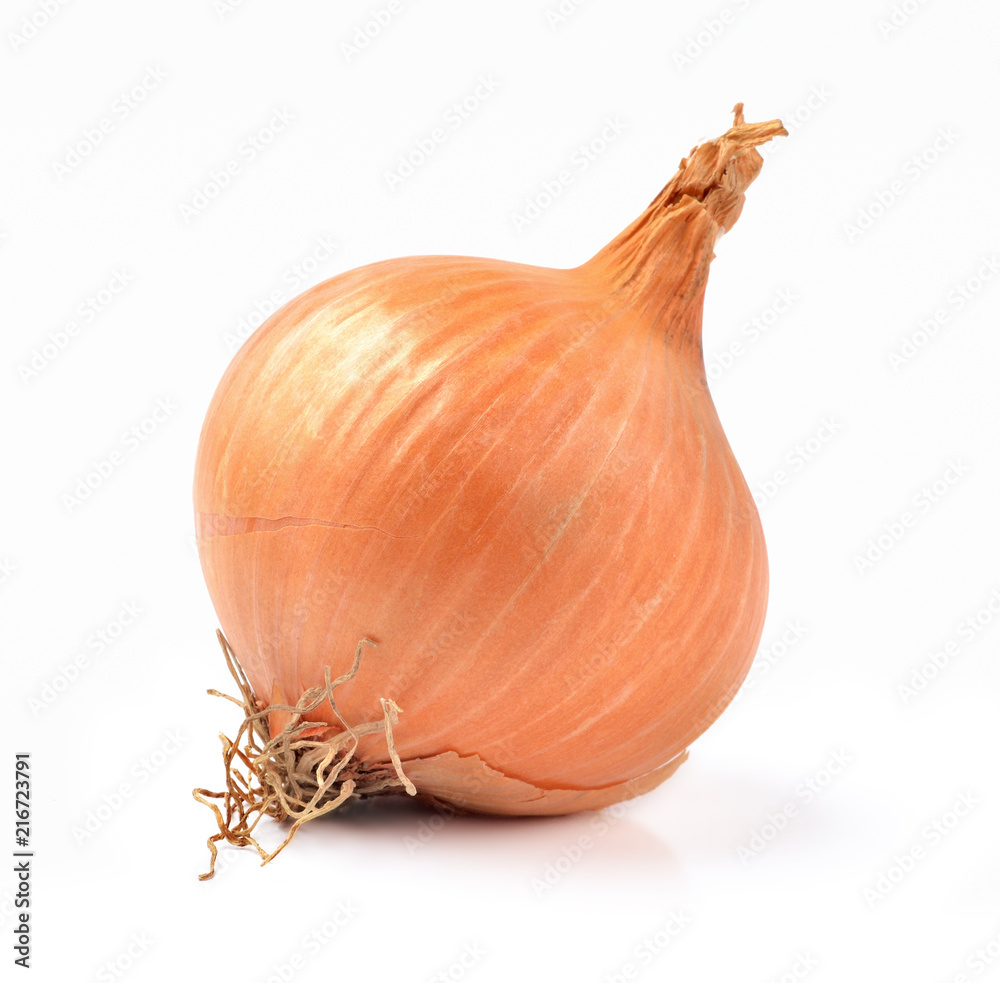onion: (149, 6, 850, 877)
